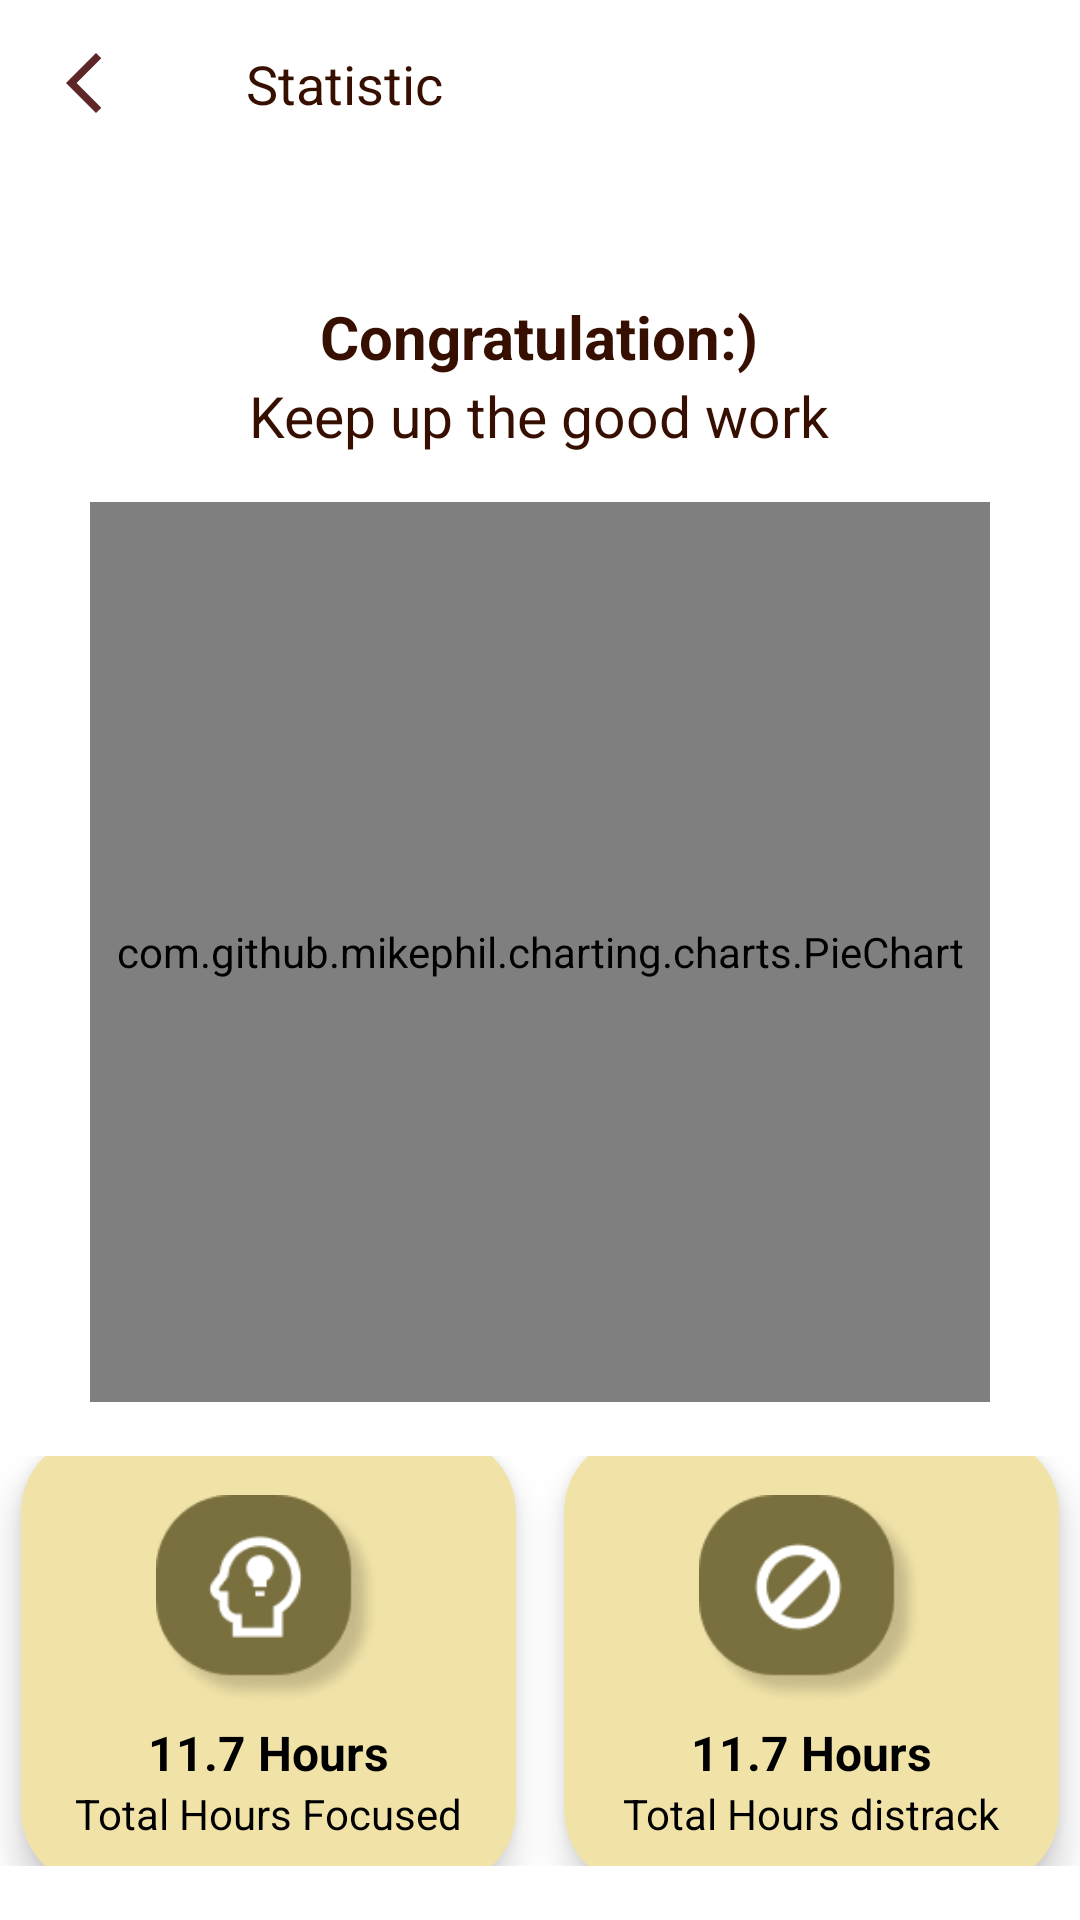

Locate icon controls on the screen. Image size 1080 × 1920, boxes as (x1, y1, x2, y2).
back: (66, 53, 101, 113)
ban: (699, 1495, 908, 1689)
head: (156, 1495, 365, 1689)
